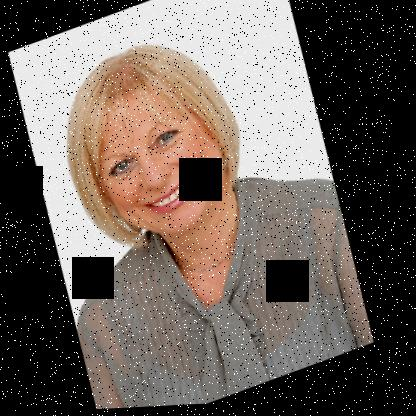Female: (71, 55, 253, 257)
